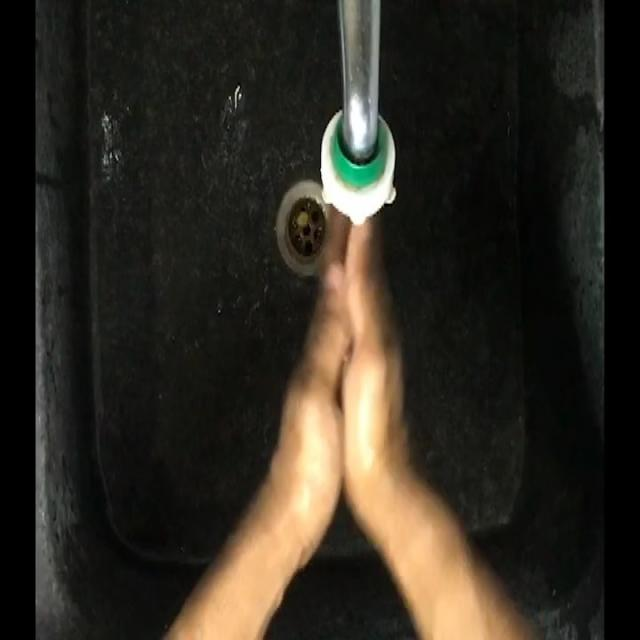step_1: (280, 137, 412, 508)
